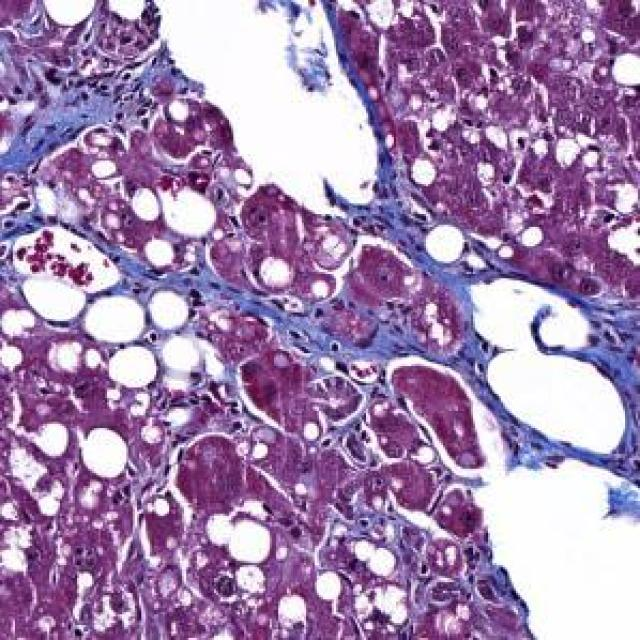fibrosis: (22, 49, 190, 156), (364, 199, 516, 306), (571, 312, 640, 485)
